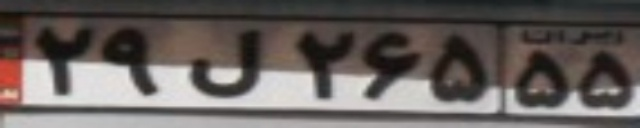2: (31, 23, 96, 95), (292, 30, 354, 98)
5: (427, 32, 490, 102), (575, 51, 634, 111), (511, 51, 568, 108)
6: (357, 30, 420, 99)
9: (100, 26, 158, 95)
lam: (188, 28, 274, 98)
